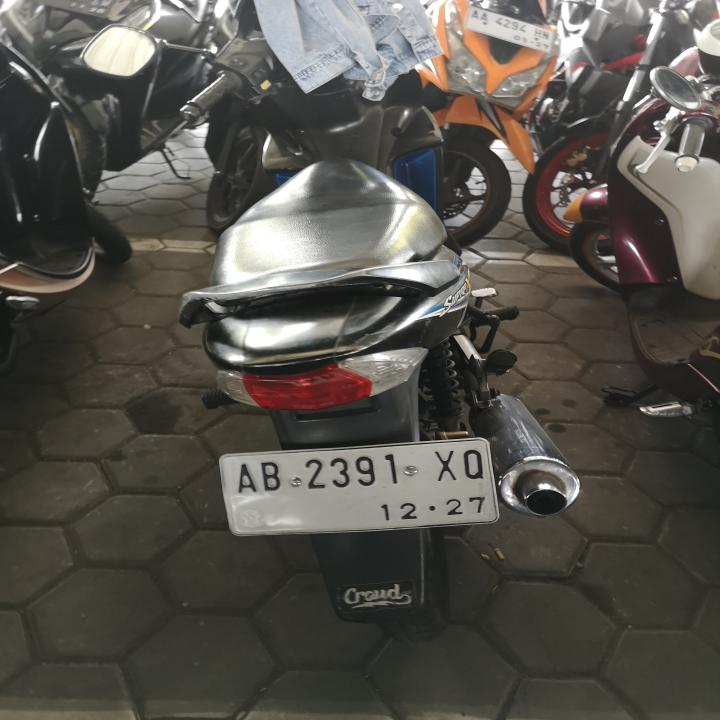plate: (216, 433, 504, 541), (460, 3, 561, 59)
